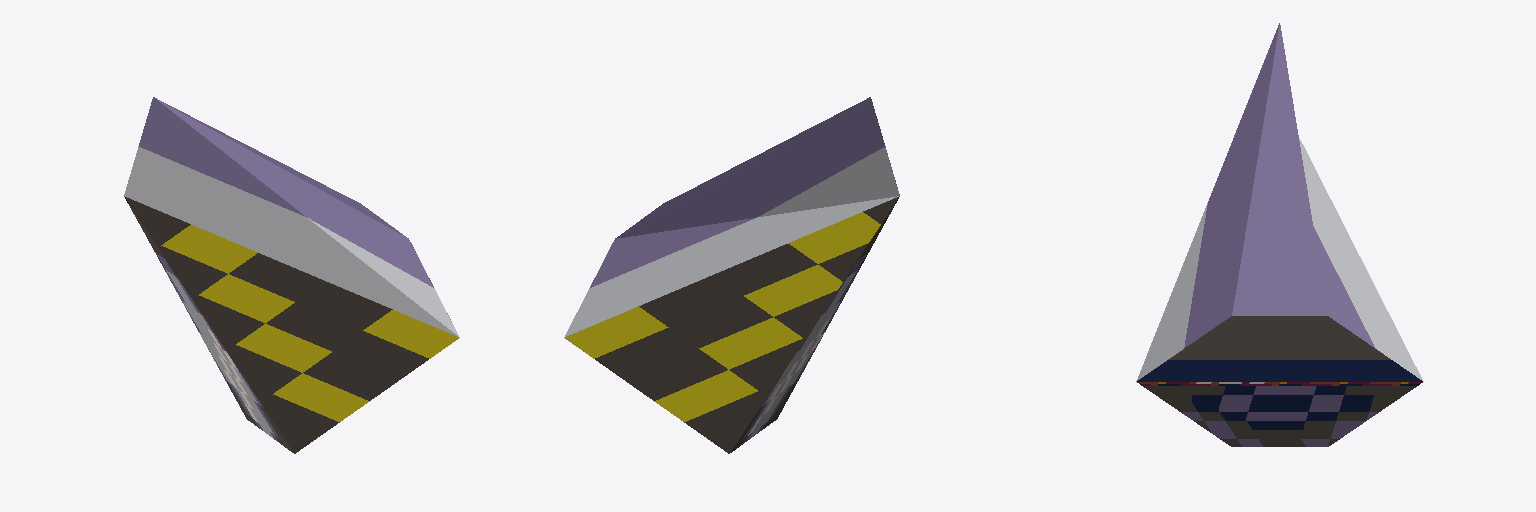
3 views of the same model, side by side, from view 1: azimuth 30°, elevation 25°; view 2: azimuth 150°, elevation 25°; view 3: azimuth 270°, elevation 25° (orthographic).
Parts seen in each view (by area): view 1: ship; view 2: ship; view 3: ship.
Part boxes in pixels (x1,y1,x2,y2): ship: (124, 97, 459, 453); ship: (564, 97, 899, 453); ship: (1136, 23, 1423, 446).
Bounding box in the file's own units: 1.59 × 2.12 × 1.5.
Materials: 1 (1 with a texture image).